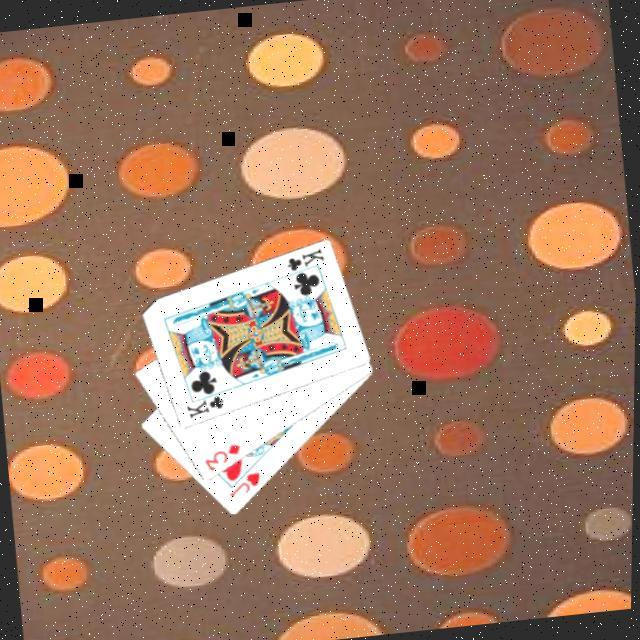3D: (199, 443, 244, 477)
JH: (224, 470, 265, 502)
KC: (181, 389, 228, 423), (279, 247, 326, 281)
